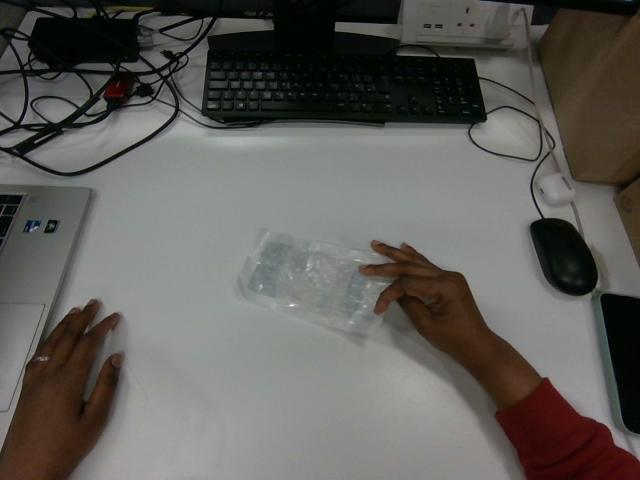gallipot: (237, 230, 389, 332)
